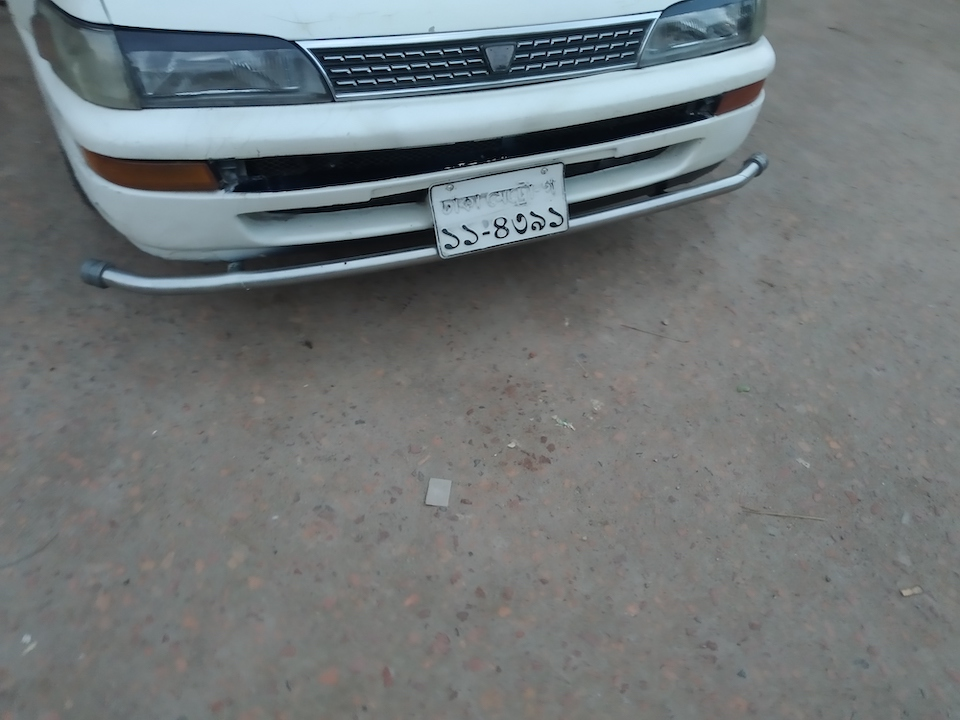registration_plate: (428, 161, 570, 260)
